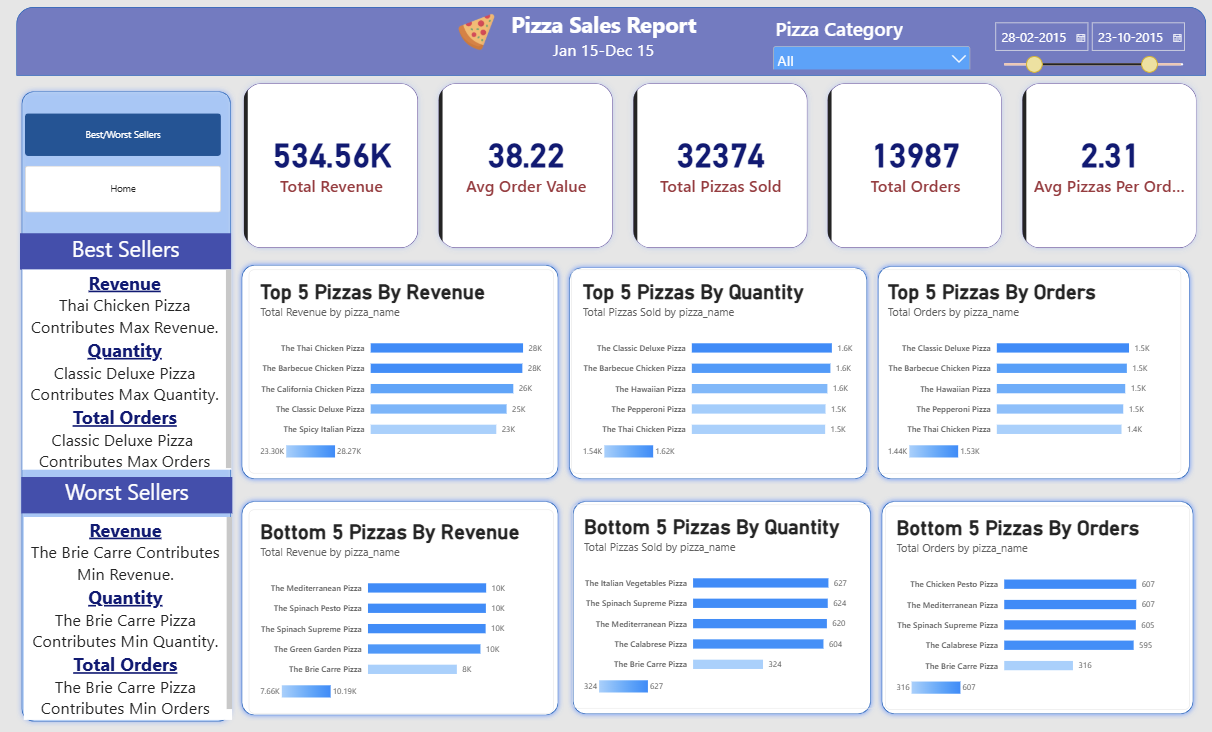

Layout of this report page (visuals, bound fields, positions):
{"tool":"powerbi","page":{"name":"Best/Worst Sellers","canvas":[1800,1100],"ordinal":1},"visuals":[{"type":"cardVisual","fields":{"Data":["pizza_sales_excel_file.Total Revenue","pizza_sales_excel_file.Avg Order Value","pizza_sales_excel_file.Total Pizzas Sold","pizza_sales_excel_file.Total Orders","pizza_sales_excel_file.Avg Pizzas Per Order"]},"box":[348.4,123.5,1430.5,265.5],"z":0},{"type":"shape","box":[24,22.1,1754.7,101.4],"z":1000},{"type":"textbox","box":[672.8,25.8,435,92.2],"z":2000},{"type":"image","box":[670.9,31.3,63.3,55.6],"z":3000},{"type":"shape","box":[348.4,394.4,482.9,331.8],"z":4000},{"type":"shape","box":[24,138.2,324.4,945.5],"z":14000},{"type":"textbox","box":[28.9,355.1,311.5,53.5],"z":15000},{"type":"textbox","box":[32.8,409.1,307.8,294.9],"z":16000},{"type":"textbox","box":[30.9,715.9,311.5,53.5],"z":17000},{"type":"textbox","box":[34.7,773.8,306.8,299.1],"z":18000},{"type":"slicer","fields":{"Values":["pizza_sales_excel_file.pizza_category"]},"box":[1135.4,35,300.4,79.3],"z":19000},{"type":"slicer","fields":{"Values":["pizza_sales_excel_file.order_date"]},"box":[1459.8,25.8,300.4,99.5],"z":20000},{"type":"shape","box":[831.3,398.1,455.3,328.1],"z":20001},{"type":"shape","box":[1286.5,396.3,475.5,329.9],"z":20002},{"type":"shape","box":[348.4,742.8,482.9,331.8],"z":20003},{"type":"shape","box":[836.8,742.8,455.3,329.9],"z":20004},{"type":"shape","box":[1292.1,742.8,475.5,329.9],"z":20005},{"type":"barChart","title":"Top 5 Pizzas By Revenue","fields":{"Category":["pizza_sales_excel_file.pizza_name"],"Y":["pizza_sales_excel_file.Total Revenue"]},"box":[366.6,409.1,449.6,301],"z":20006},{"type":"barChart","title":"Bottom 5 Pizzas By Revenue","fields":{"Category":["pizza_sales_excel_file.pizza_name"],"Y":["pizza_sales_excel_file.Total Revenue"]},"box":[366.8,763.1,449.6,301],"z":20007},{"type":"barChart","title":"Top 5 Pizzas By Quantity","fields":{"Category":["pizza_sales_excel_file.pizza_name"],"Y":["pizza_sales_excel_file.Total Pizzas Sold"]},"box":[842.3,409.2,449.6,301],"z":20008},{"type":"barChart","title":"Bottom 5 Pizzas By Quantity","fields":{"Category":["pizza_sales_excel_file.pizza_name"],"Y":["pizza_sales_excel_file.Total Pizzas Sold"]},"box":[843.3,756.4,449.6,301],"z":20009},{"type":"barChart","title":"Top 5 Pizzas By Orders","fields":{"Category":["pizza_sales_excel_file.pizza_name"],"Y":["pizza_sales_excel_file.Total Orders"]},"box":[1292.9,409.1,449.6,301],"z":20010},{"type":"barChart","title":"Bottom 5 Pizzas By Orders","fields":{"Category":["pizza_sales_excel_file.pizza_name"],"Y":["pizza_sales_excel_file.Total Orders"]},"box":[1305,757.5,449.6,301],"z":20011},{"type":"pageNavigator","box":[36.7,179.5,289.5,63.7],"z":20012},{"type":"pageNavigator","box":[36.7,256.6,289.5,69.5],"z":20013}]}

Visuals, with their boxes in screenshot pixels (x1, y1, x2, y2), scaled from the page's 1800x1100 canvas onto the 1212x732 screenshot:
cardVisual - pizza_sales_excel_file.Total Revenue x pizza_sales_excel_file.Avg Order Value: (235,82,1198,259)
shape: (16,15,1198,82)
textbox: (453,17,746,79)
image: (452,21,494,58)
shape: (235,262,560,483)
shape: (16,92,235,721)
textbox: (19,236,229,272)
textbox: (22,272,229,468)
textbox: (21,476,231,512)
textbox: (23,515,230,714)
slicer - pizza_sales_excel_file.pizza_category: (765,23,967,76)
slicer - pizza_sales_excel_file.order_date: (983,17,1185,83)
shape: (560,265,866,483)
shape: (866,264,1186,483)
shape: (235,494,560,715)
shape: (563,494,870,714)
shape: (870,494,1190,714)
"Top 5 Pizzas By Revenue" barChart: (247,272,550,473)
"Bottom 5 Pizzas By Revenue" barChart: (247,508,550,708)
"Top 5 Pizzas By Quantity" barChart: (567,272,870,473)
"Bottom 5 Pizzas By Quantity" barChart: (568,503,871,704)
"Top 5 Pizzas By Orders" barChart: (871,272,1173,473)
"Bottom 5 Pizzas By Orders" barChart: (879,504,1181,704)
pageNavigator: (25,119,220,162)
pageNavigator: (25,171,220,217)
